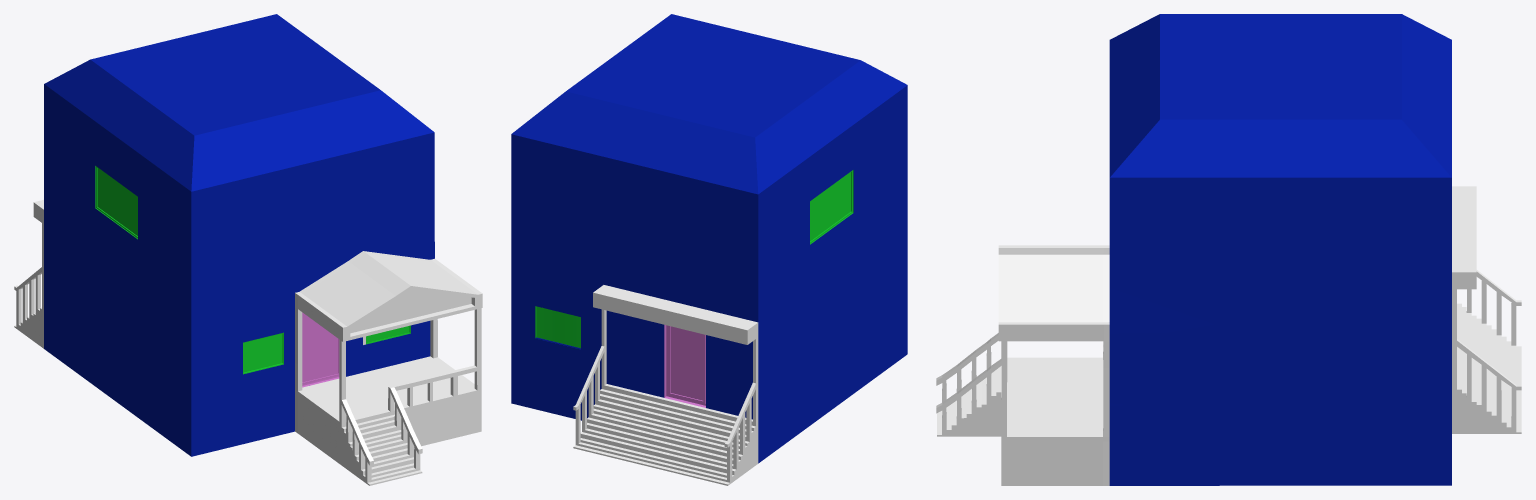
File: House.fbx
3 renders of one model, left to right at view 1: azimuth 30°, elevation 25°; view 2: azimuth 150°, elevation 25°; view 3: azimuth 270°, elevation 25°, orthographic. The views are drawn at different scales.
Parts seen in each view (by area): view 1: House; view 2: House; view 3: House.
Part boxes in pixels (box(x1,y1,x2,y2)): House: box(14, 14, 482, 485); House: box(511, 14, 907, 485); House: box(936, 14, 1521, 485).
Bounding box in the file's own units: 26.37 × 30.96 × 47.21.
